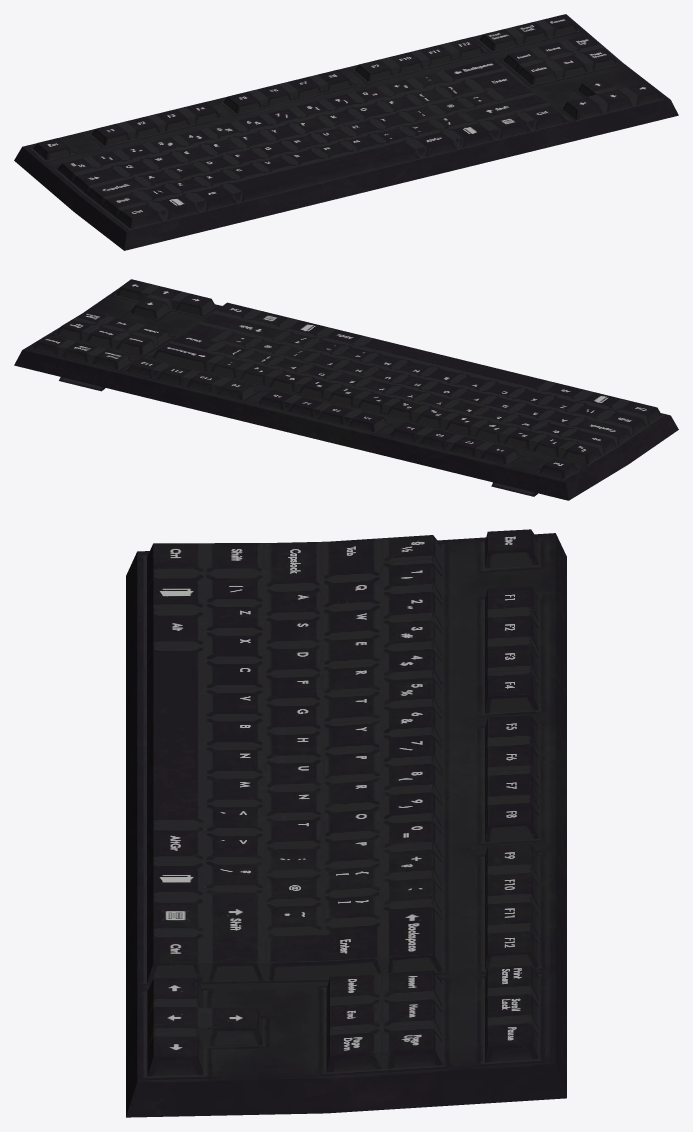
Rendered from kb-logitech-k120.glb.
The picture shows the model from 3 angles, top to bottom: view 1: azimuth 30°, elevation 25°; view 2: azimuth 150°, elevation 25°; view 3: azimuth 270°, elevation 25°; orthographic projection. The views are drawn at different scales.
Visible parts, largest first — view 1: body; view 2: body; view 3: body.
Part boxes in pixels (x1,y1,x2,y2): body: (14,14,678,250); body: (14,279,678,500); body: (126,529,566,1117).
Bounding box in the file's own units: 0.45 × 0.0235 × 0.155.
1 material, 1 textured.
